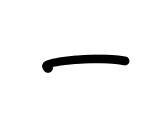minus: (42, 54, 130, 73)
